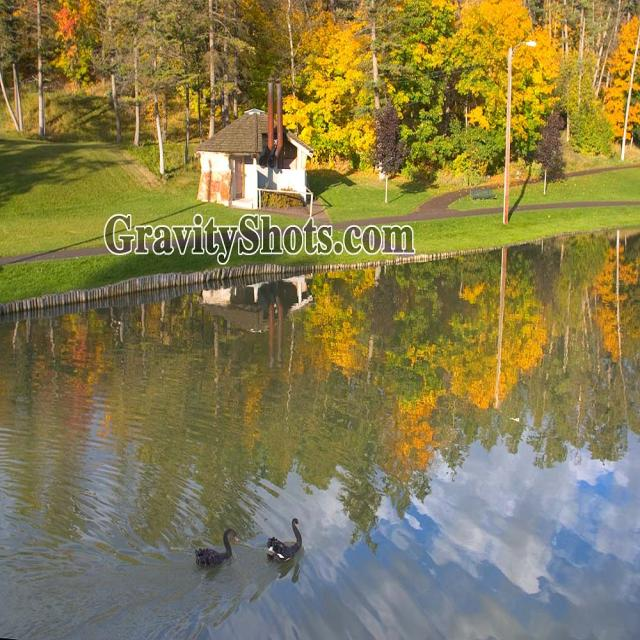bird: (261, 514, 306, 570), (189, 530, 238, 572)
